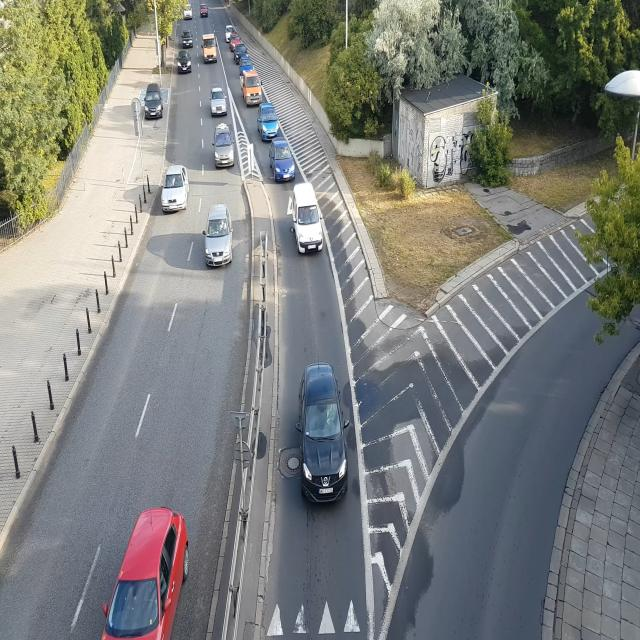car: (105, 500, 183, 640), (298, 352, 352, 514), (292, 181, 325, 256), (204, 204, 234, 266), (160, 165, 190, 213), (271, 140, 298, 182), (213, 123, 236, 171), (258, 102, 280, 142), (242, 69, 264, 107), (143, 88, 166, 120), (211, 90, 230, 116), (201, 37, 218, 64), (178, 52, 194, 74), (198, 2, 209, 23), (183, 5, 194, 23), (182, 35, 195, 50), (240, 58, 253, 71), (235, 46, 246, 58), (231, 34, 239, 47), (225, 25, 233, 35)
